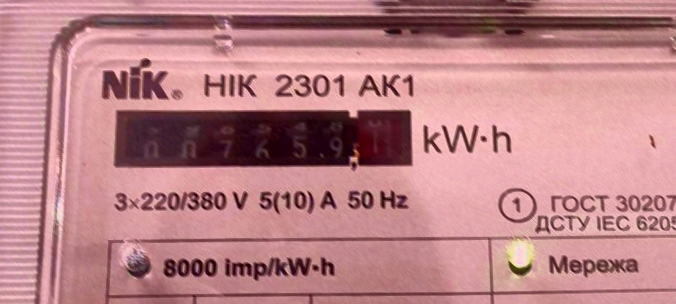0: (141, 135, 160, 162), (179, 136, 199, 161)
1: (368, 125, 383, 157)
5: (288, 131, 311, 159)
6: (252, 135, 272, 159)
7: (215, 136, 236, 161)
9: (326, 132, 345, 160)
screen: (103, 91, 423, 188)
